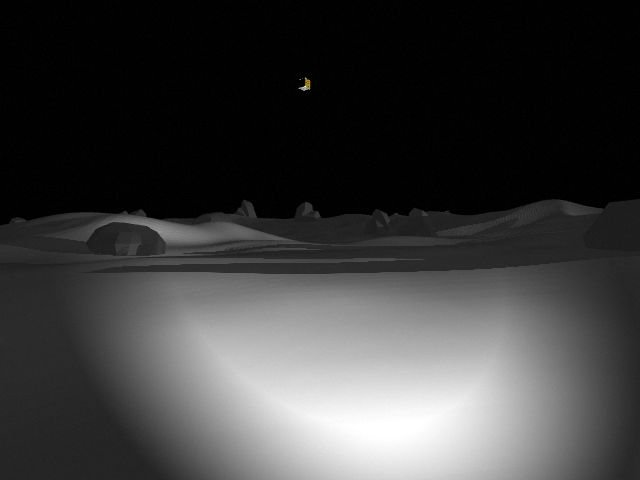cubesat: (296, 74, 311, 93)
